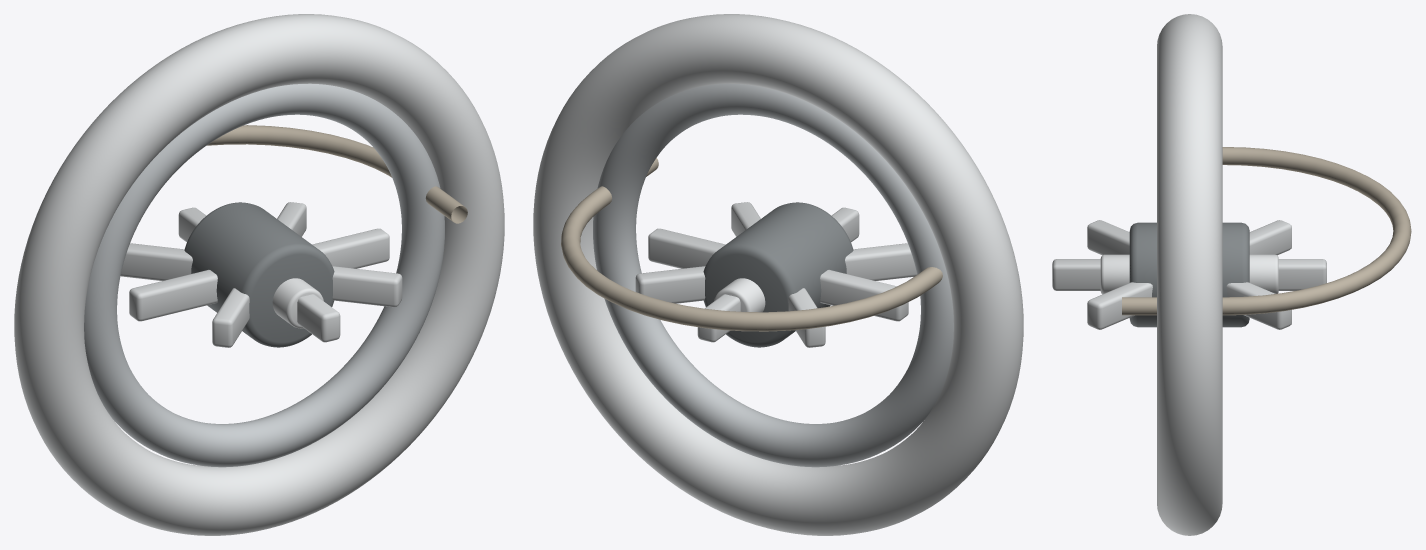
File: pulley-premium-v3.glb
3 renders of one model, left to right at view 1: azimuth 30°, elevation 25°; view 2: azimuth 150°, elevation 25°; view 3: azimuth 270°, elevation 25°, orthographic. The views are drawn at different scales.
Parts seen in each view (by area): view 1: PulleyOuter, PulleyGroove, Hub, Spoke.002, Rope, Spoke.001, Spoke.005, Spoke, Spoke.007, Spoke.003, Axle, Spoke.004; view 2: PulleyOuter, PulleyGroove, Hub, Rope, Spoke.002, Spoke.003, Spoke.007, Spoke.005, Axle, Spoke, Spoke.001, Spoke.004; view 3: PulleyOuter, Rope, Hub, Spoke.001, Axle, Spoke.003, Spoke, Spoke.004, Spoke.005, Spoke.007.
Part boxes in pixels (x1,y1,x2,y2): PulleyOuter: [14, 14, 504, 535]; PulleyGroove: [84, 83, 444, 467]; Hub: [184, 202, 334, 347]; Spoke.002: [129, 228, 389, 321]; Rope: [207, 125, 467, 223]; Spoke.001: [120, 243, 402, 305]; Spoke.005: [332, 266, 402, 307]; Spoke: [182, 207, 340, 342]; Spoke.007: [212, 202, 306, 347]; Spoke.003: [213, 202, 305, 347]; Axle: [272, 278, 323, 328]; Spoke.004: [178, 207, 339, 341]; PulleyOuter: [533, 14, 1023, 535]; PulleyGroove: [593, 83, 953, 467]; Hub: [703, 202, 853, 347]; Rope: [561, 158, 942, 331]; Spoke.002: [648, 228, 908, 321]; Spoke.003: [635, 243, 909, 303]; Spoke.007: [636, 249, 916, 292]; Spoke.005: [733, 202, 825, 347]; Axle: [714, 278, 765, 312]; Spoke: [697, 207, 859, 342]; Spoke.001: [731, 202, 825, 347]; Spoke.004: [698, 207, 858, 342]; PulleyOuter: [1157, 14, 1222, 535]; Rope: [1122, 147, 1411, 315]; Hub: [1129, 222, 1249, 327]; Spoke.001: [1088, 220, 1291, 329]; Axle: [1100, 254, 1278, 294]; Spoke.003: [1087, 220, 1291, 329]; Spoke: [1055, 259, 1326, 290]; Spoke.004: [1052, 259, 1326, 290]; Spoke.005: [1087, 220, 1291, 326]; Spoke.007: [1090, 222, 1290, 329].
Bounding box in the file's own units: 2.7 × 2.7 × 1.86.
